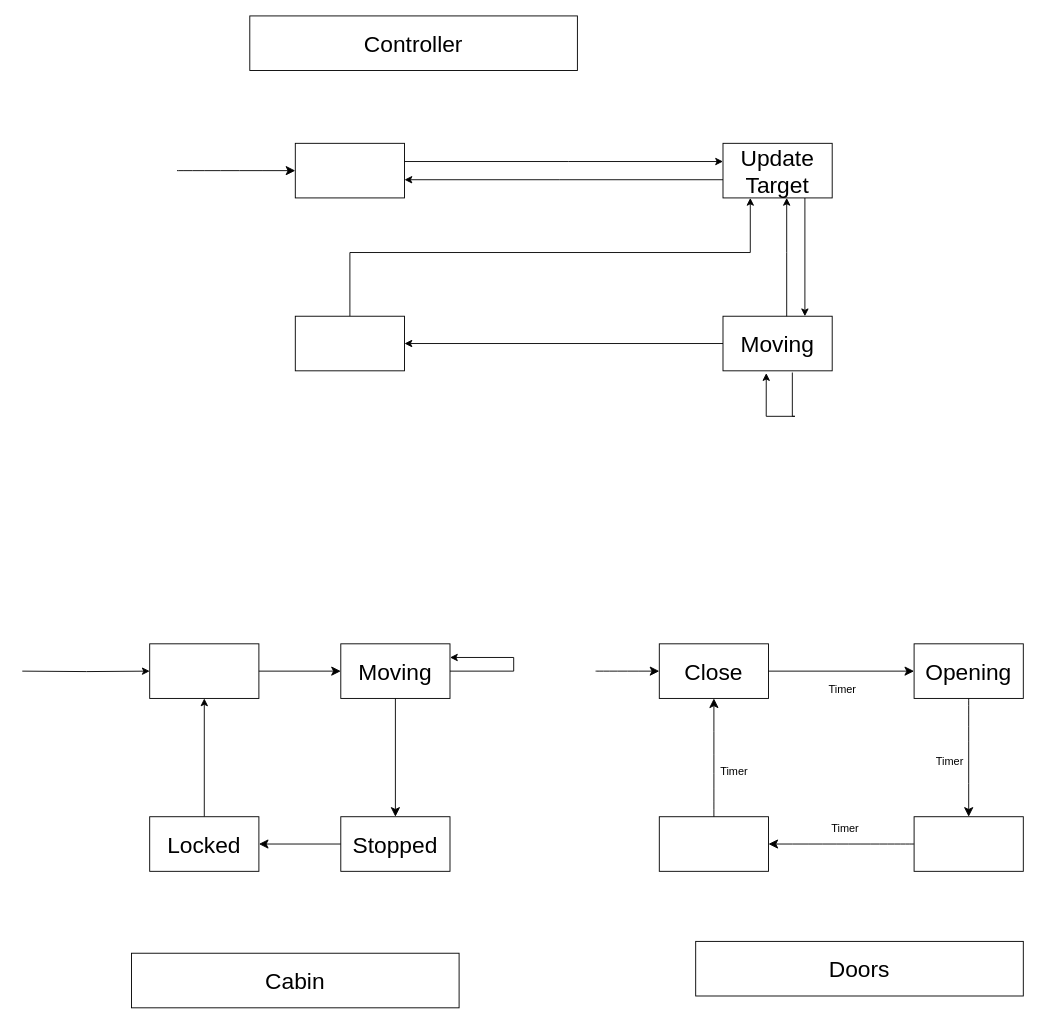
This 1039x1024 diagram has some shape labels left out. Each missing label, with the centre of its shape:
"Closing" goes at (x=713, y=843).
"Open" goes at (x=968, y=843).
"Reached Target" goes at (x=349, y=343).
"Unlocked" goes at (x=204, y=670).
"Waiting" goes at (x=349, y=170).
